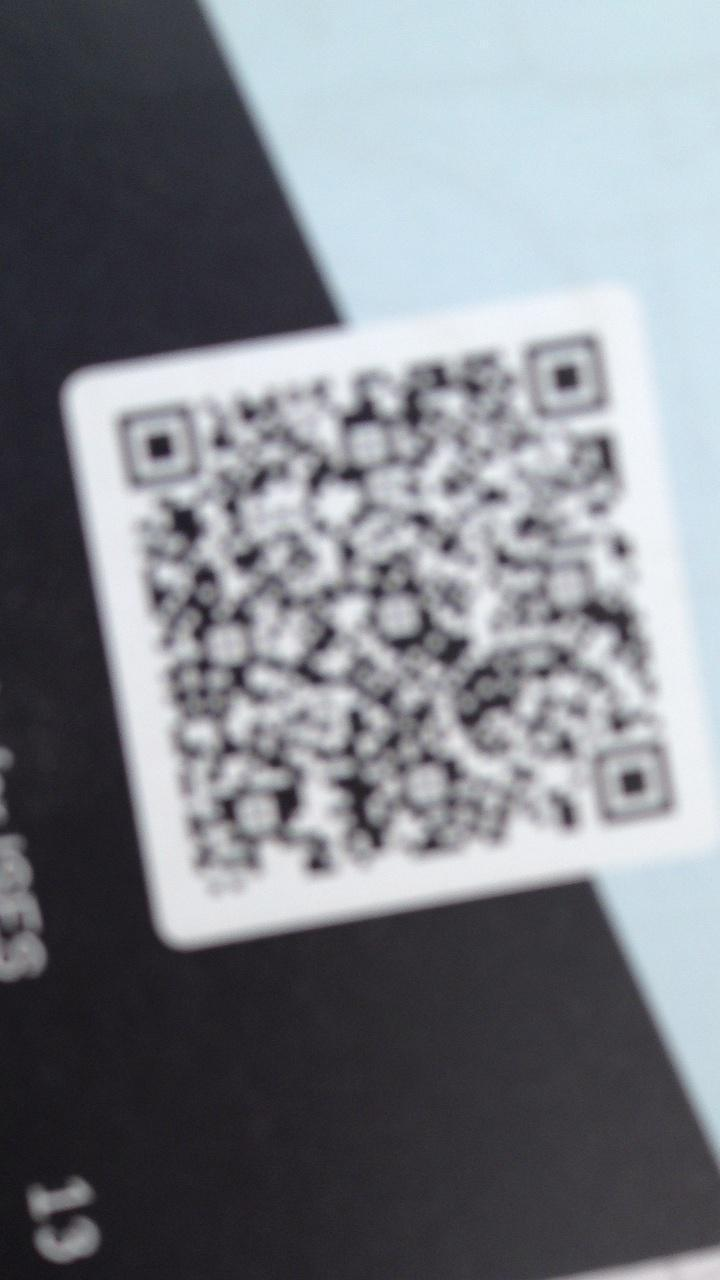qr_code: (117, 334, 675, 896)
